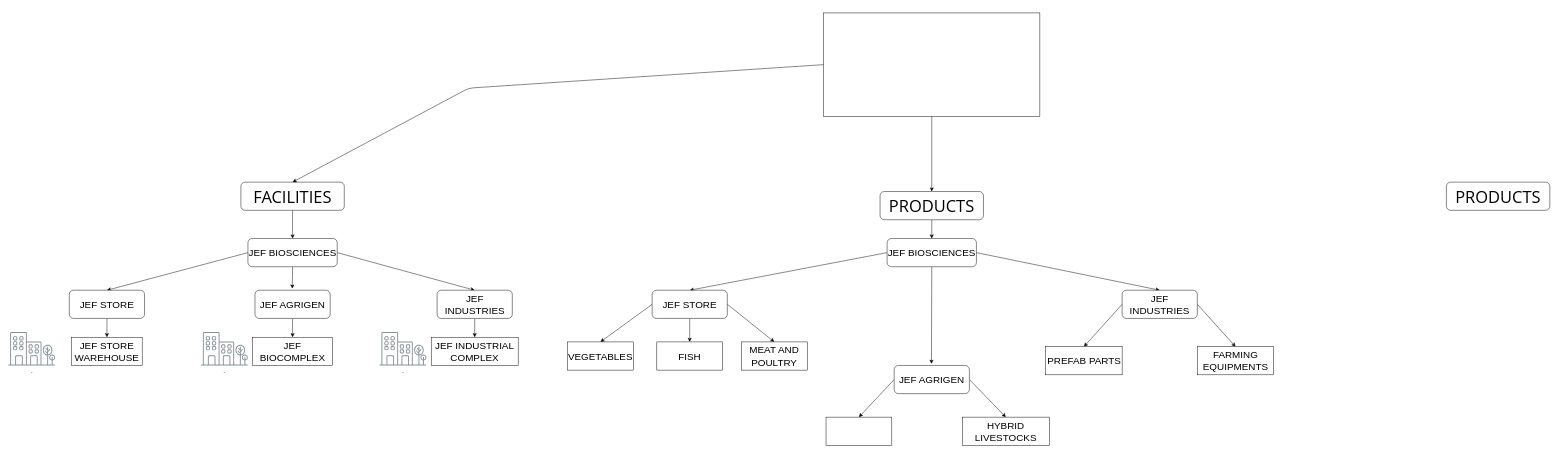
The diagram is 1558 pixels wide and 454 high, and some of its shapes have lost their labels. Here are the shapes that lost their labels. From the top down, the centre of each, then its label:
At (x=931, y=64): "JEF".
At (x=859, y=431): "SEEDS".
